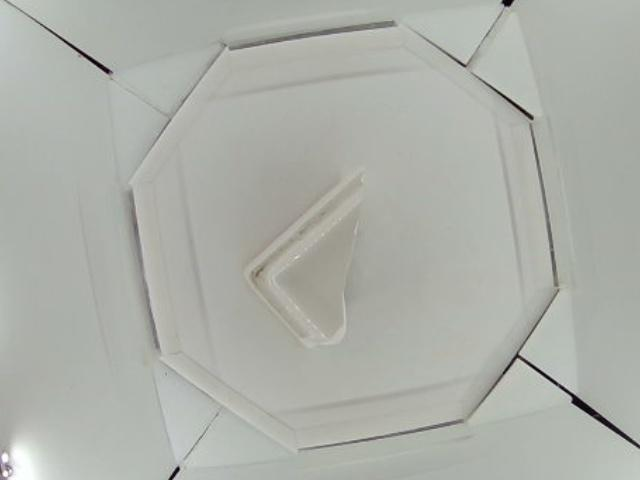China: (247, 166, 365, 346)
